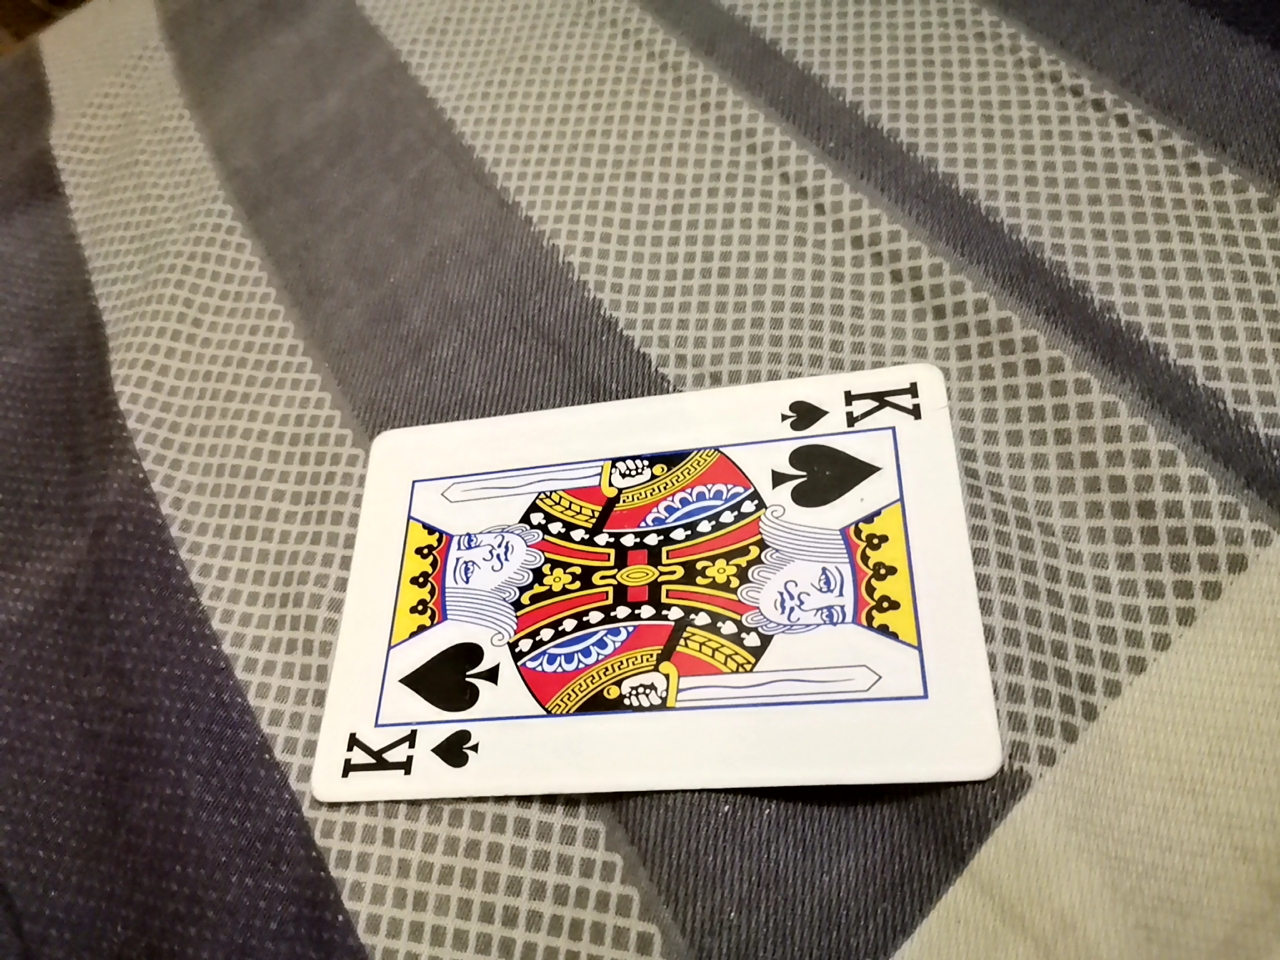ht k: (334, 357, 980, 791)
